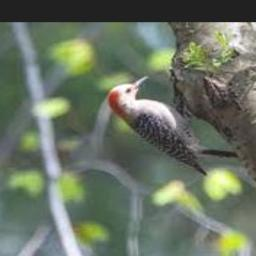Woodpecker: (109, 73, 240, 175)
